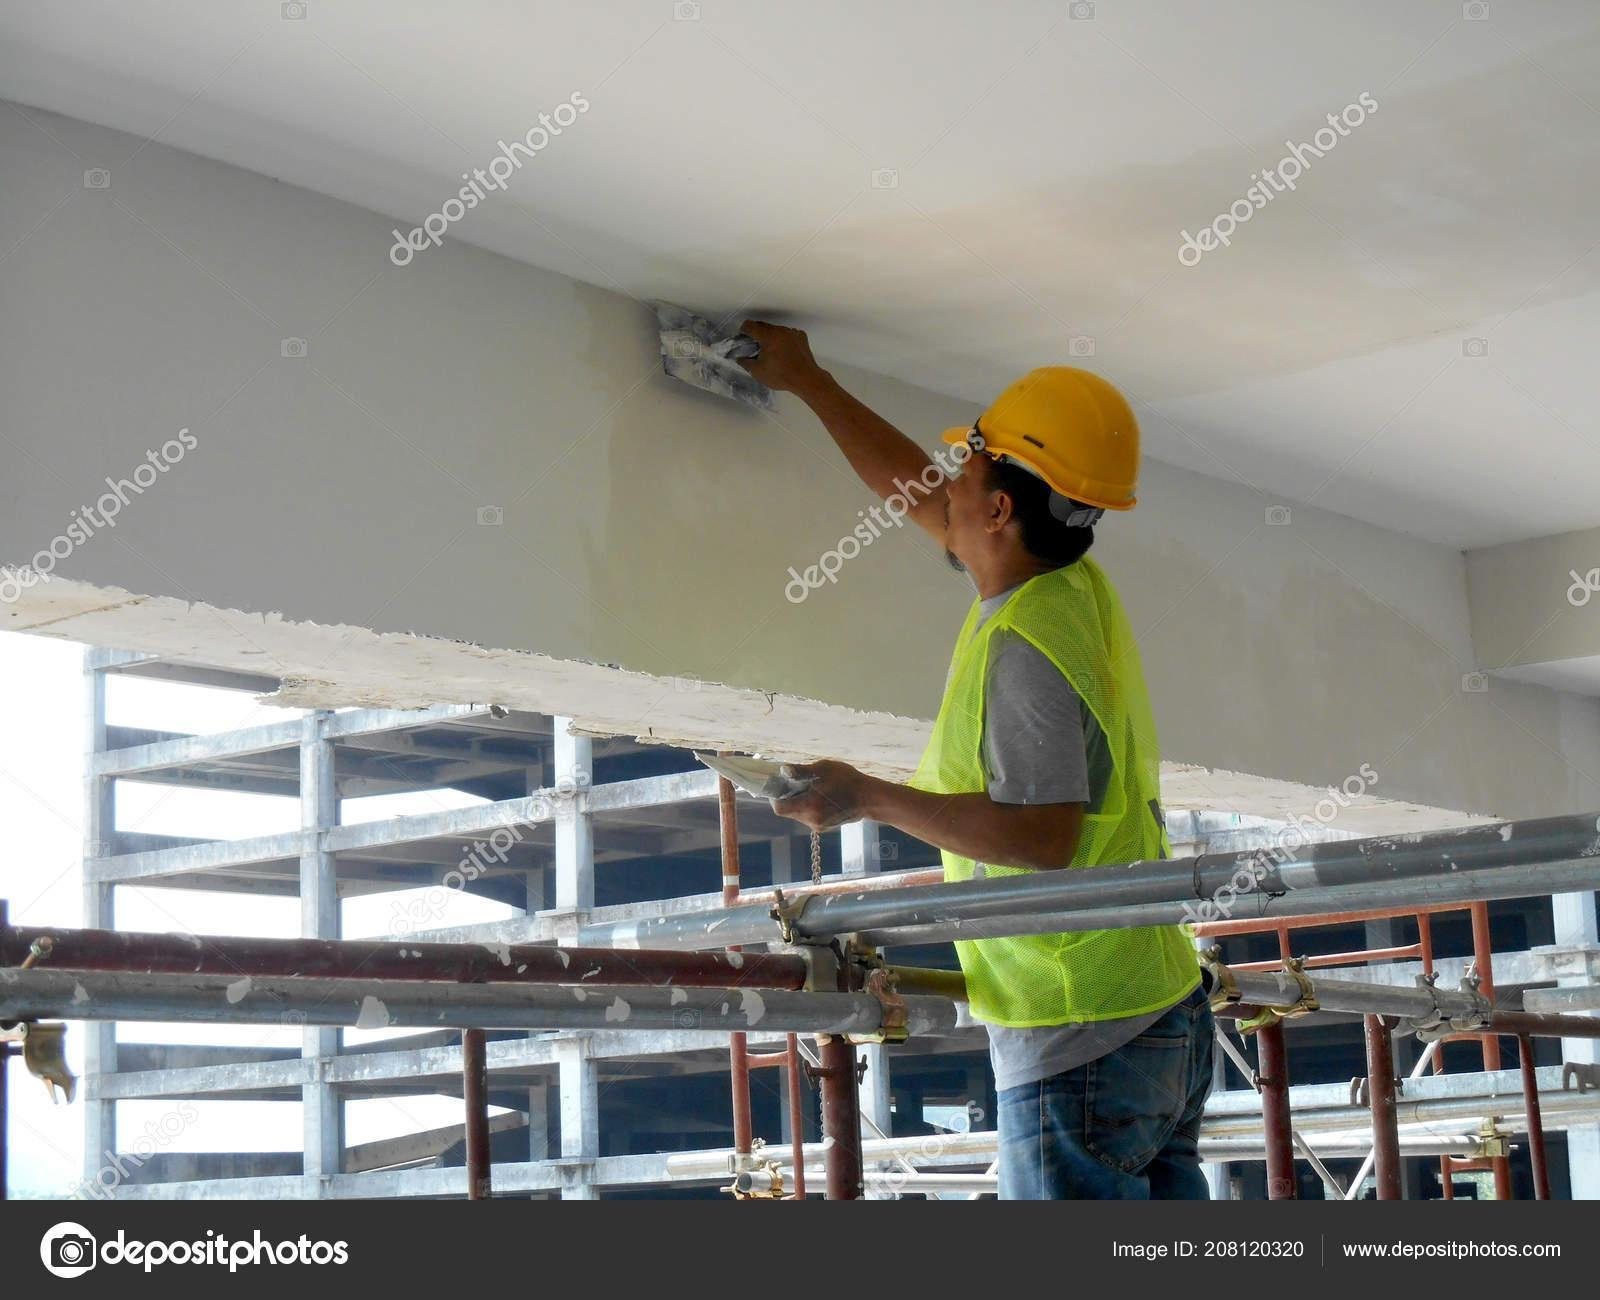helmet: (931, 358, 1144, 533)
person: (922, 373, 1217, 1211)
vest: (932, 583, 1205, 1021)
